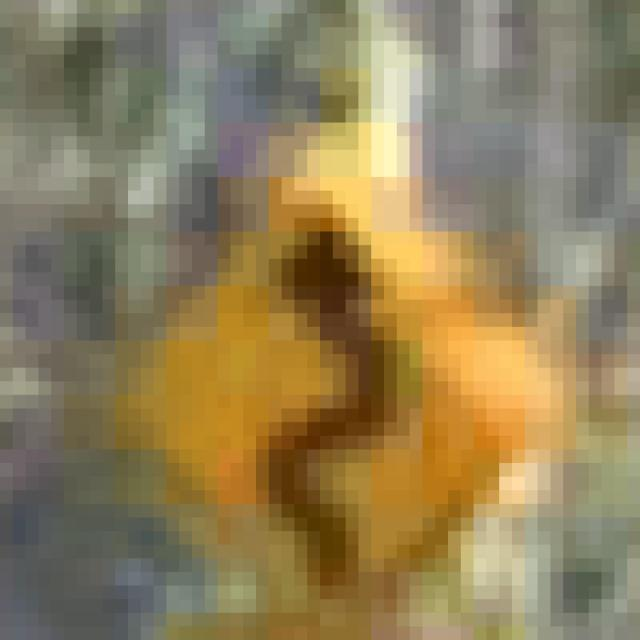Banyak Tikungan Pertama Kiri: (77, 68, 576, 626)
